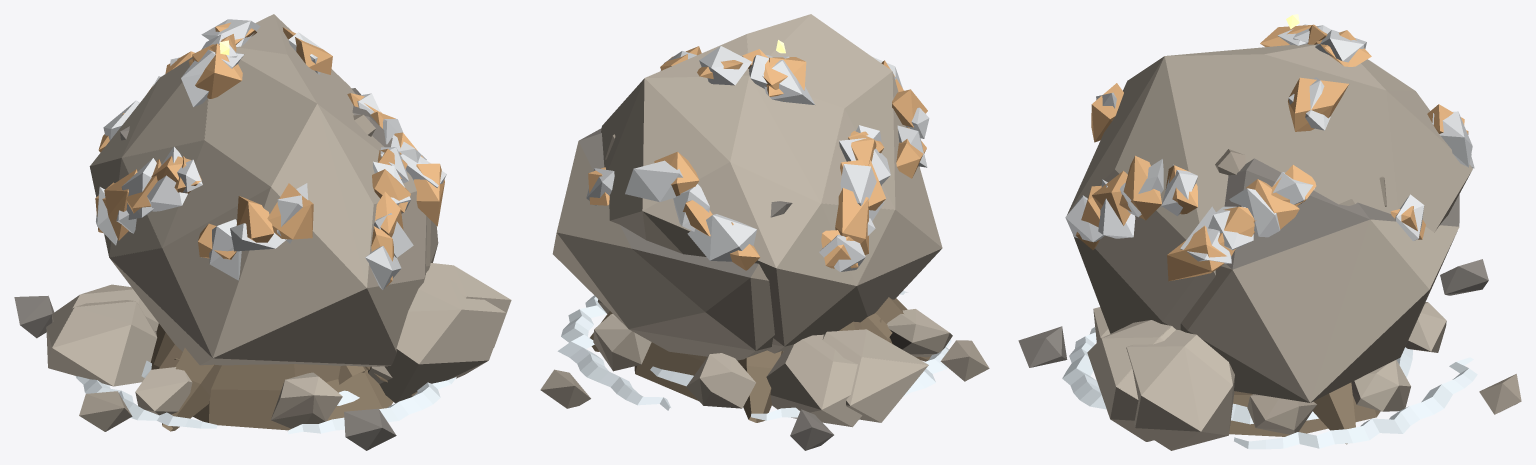
File: props.glb
3 renders of one model, left to right at view 1: azimuth 30°, elevation 25°; view 2: azimuth 150°, elevation 25°; view 3: azimuth 270°, elevation 25°, orthographic. The views are drawn at different scales.
Parts seen in each view (by area): view 1: ore-rock-tin_Rock, ore-rock-copper_Ore, ore-rock-tin_Ore, ore-rock-copper_Rock, tree-stump_Stump, campfire_Base, ore-rock-depleted_Rubble, ore-rock-depleted_Rock, fishing-ripple_Rings; view 2: ore-rock-copper_Rock, ore-rock-depleted_Rock, ore-rock-tin_Rock, ore-rock-tin_Ore, ore-rock-copper_Ore, campfire_Base, fishing-ripple_Rings, tree-stump_Stump, ore-rock-depleted_Rubble; view 3: ore-rock-depleted_Rock, ore-rock-tin_Rock, ore-rock-copper_Rock, ore-rock-copper_Ore, ore-rock-tin_Ore, fishing-ripple_Rings, campfire_Base, ore-rock-depleted_Rubble, tree-stump_Stump.
Boxes of the visible parts, x1=… form: ore-rock-tin_Rock: x1=48, y1=14, x2=506, y2=403; ore-rock-copper_Ore: x1=95, y1=22, x2=444, y2=286; ore-rock-tin_Ore: x1=96, y1=19, x2=446, y2=289; ore-rock-copper_Rock: x1=46, y1=14, x2=446, y2=367; tree-stump_Stump: x1=150, y1=324, x2=417, y2=431; campfire_Base: x1=135, y1=331, x2=392, y2=428; ore-rock-depleted_Rubble: x1=14, y1=114, x2=396, y2=450; ore-rock-depleted_Rock: x1=52, y1=88, x2=511, y2=347; fishing-ripple_Rings: x1=75, y1=360, x2=456, y2=434; ore-rock-copper_Rock: x1=601, y1=34, x2=941, y2=422; ore-rock-depleted_Rock: x1=552, y1=128, x2=862, y2=427; ore-rock-tin_Rock: x1=646, y1=14, x2=942, y2=420; ore-rock-tin_Ore: x1=586, y1=46, x2=929, y2=271; ore-rock-copper_Ore: x1=588, y1=46, x2=927, y2=270; campfire_Base: x1=593, y1=299, x2=952, y2=408; fishing-ripple_Rings: x1=557, y1=291, x2=951, y2=420; tree-stump_Stump: x1=590, y1=297, x2=930, y2=422; ore-rock-depleted_Rubble: x1=540, y1=134, x2=989, y2=450; ore-rock-depleted_Rock: x1=1126, y1=158, x2=1459, y2=450; ore-rock-tin_Rock: x1=1067, y1=44, x2=1385, y2=441; ore-rock-copper_Rock: x1=1117, y1=45, x2=1472, y2=441; ore-rock-copper_Ore: x1=1075, y1=24, x2=1468, y2=281; ore-rock-tin_Ore: x1=1065, y1=24, x2=1474, y2=263; fishing-ripple_Rings: x1=1062, y1=316, x2=1477, y2=449; campfire_Base: x1=1093, y1=302, x2=1446, y2=434; ore-rock-depleted_Rubble: x1=1018, y1=149, x2=1521, y2=414; tree-stump_Stump: x1=1229, y1=382, x2=1380, y2=444.
Size of the model in its own units: 1.2 by 0.9217 by 1.2.
